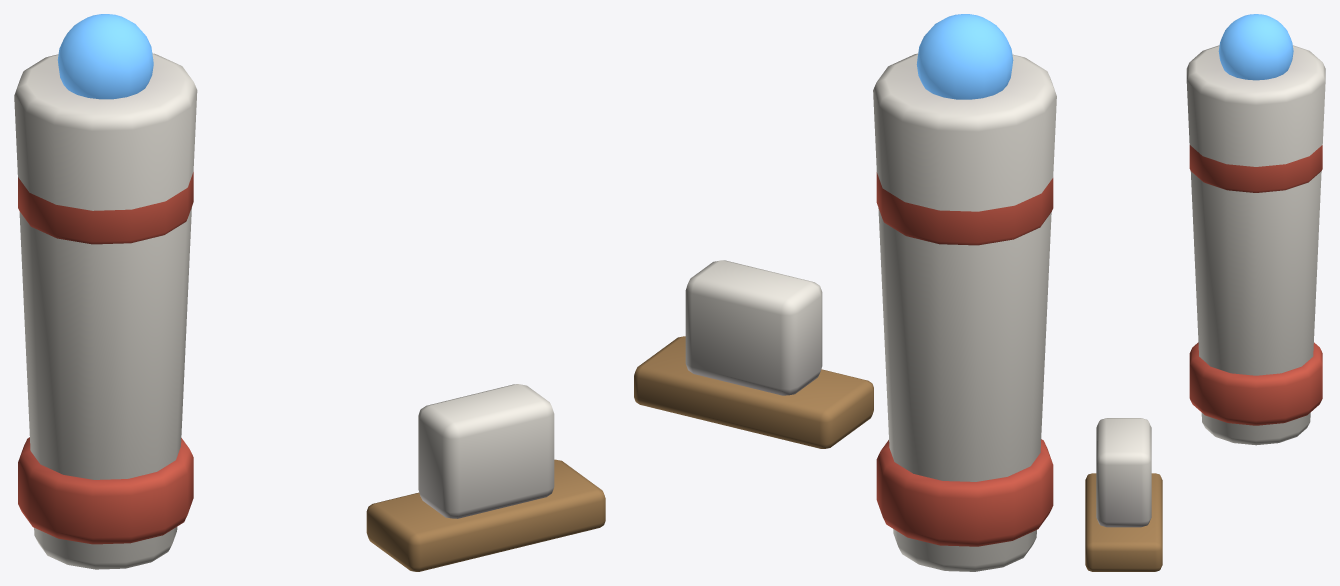
The picture shows the model from 3 angles, left to right: view 1: azimuth 30°, elevation 25°; view 2: azimuth 150°, elevation 25°; view 3: azimuth 270°, elevation 25°; orthographic projection. The views are drawn at different scales.
Visible parts, largest first — view 1: landmark_d6a0583d; view 2: landmark_d6a0583d; view 3: landmark_d6a0583d.
Part boxes in pixels (<box>): landmark_d6a0583d: <box>14,14,605,571</box>; landmark_d6a0583d: <box>634,14,1056,571</box>; landmark_d6a0583d: <box>1085,14,1325,571</box>.
Bounding box in the file's own units: 3.85 × 4.09 × 2.18.
